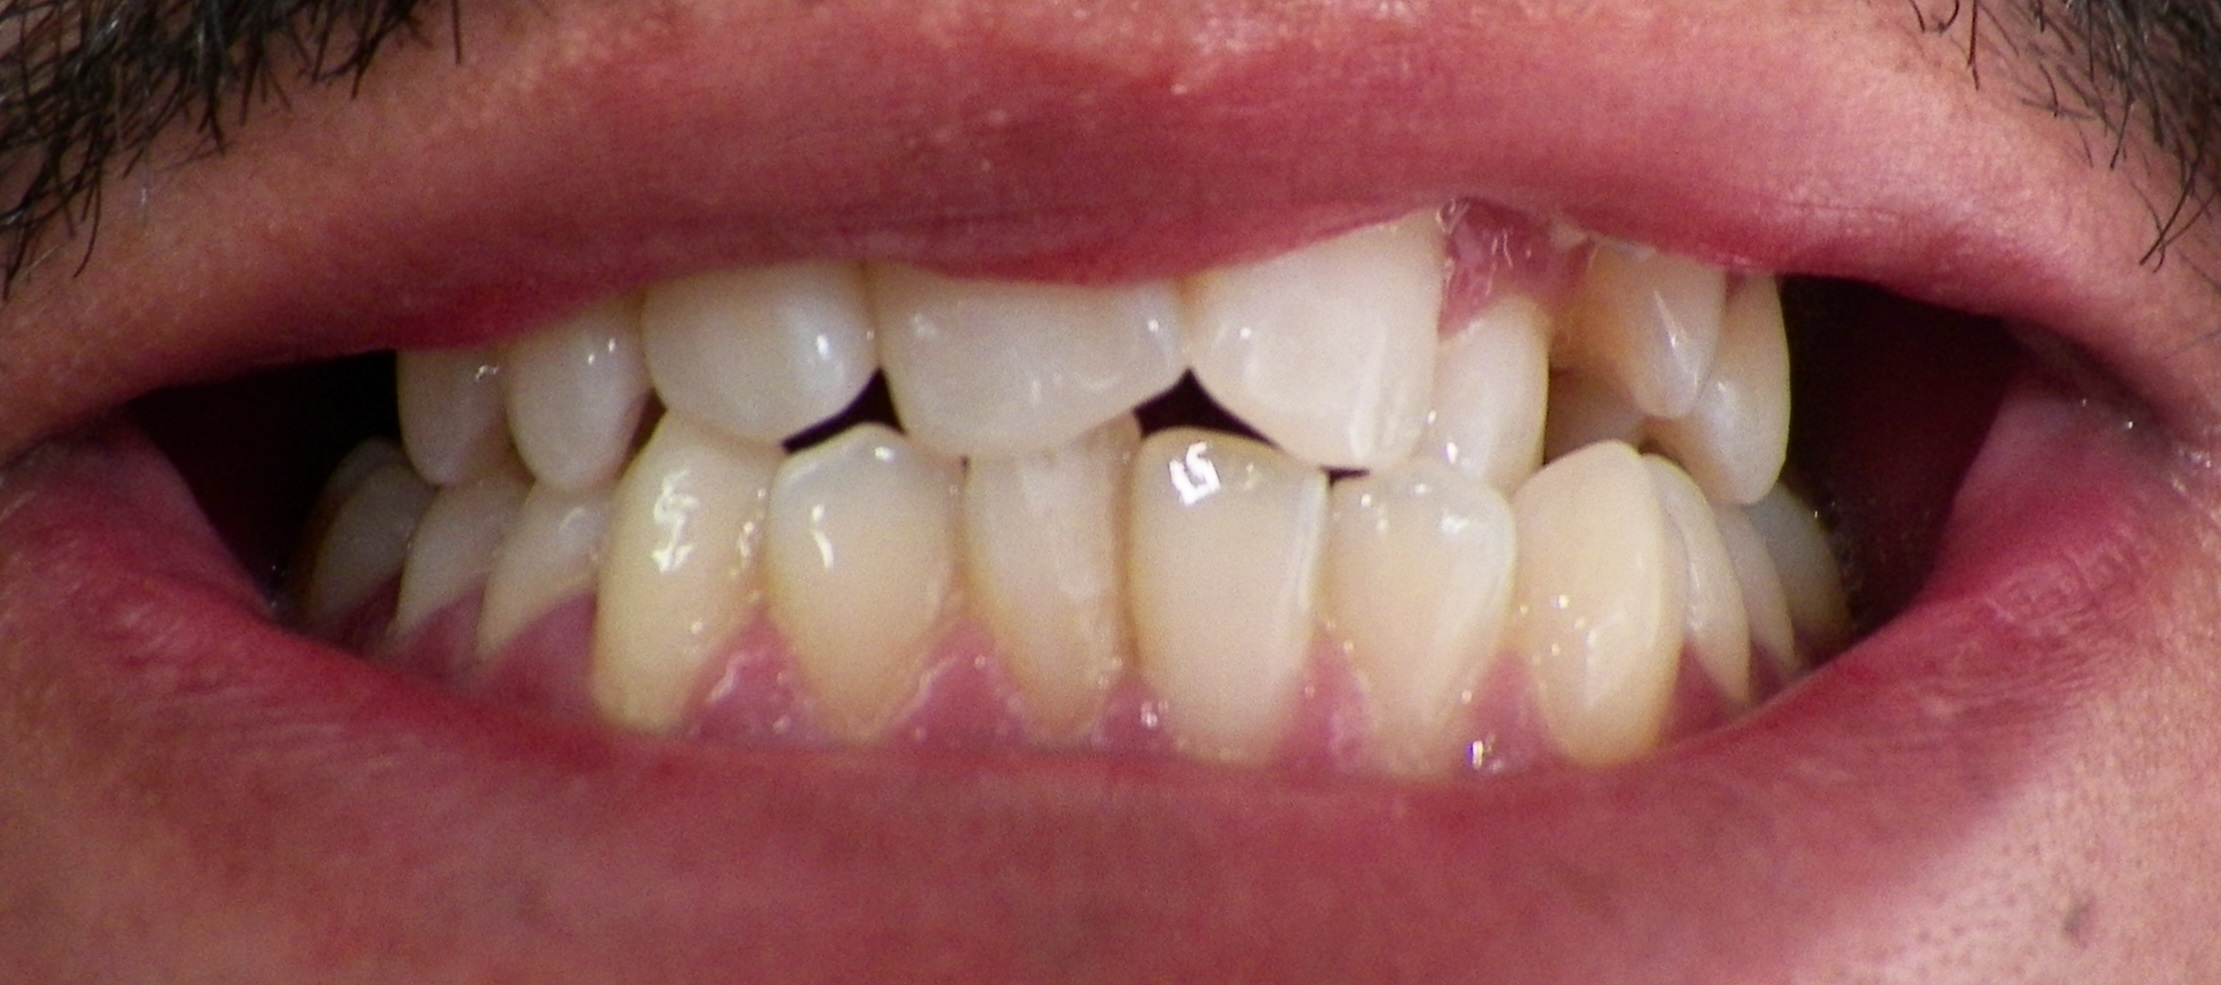boca: (282, 252, 1973, 703)
